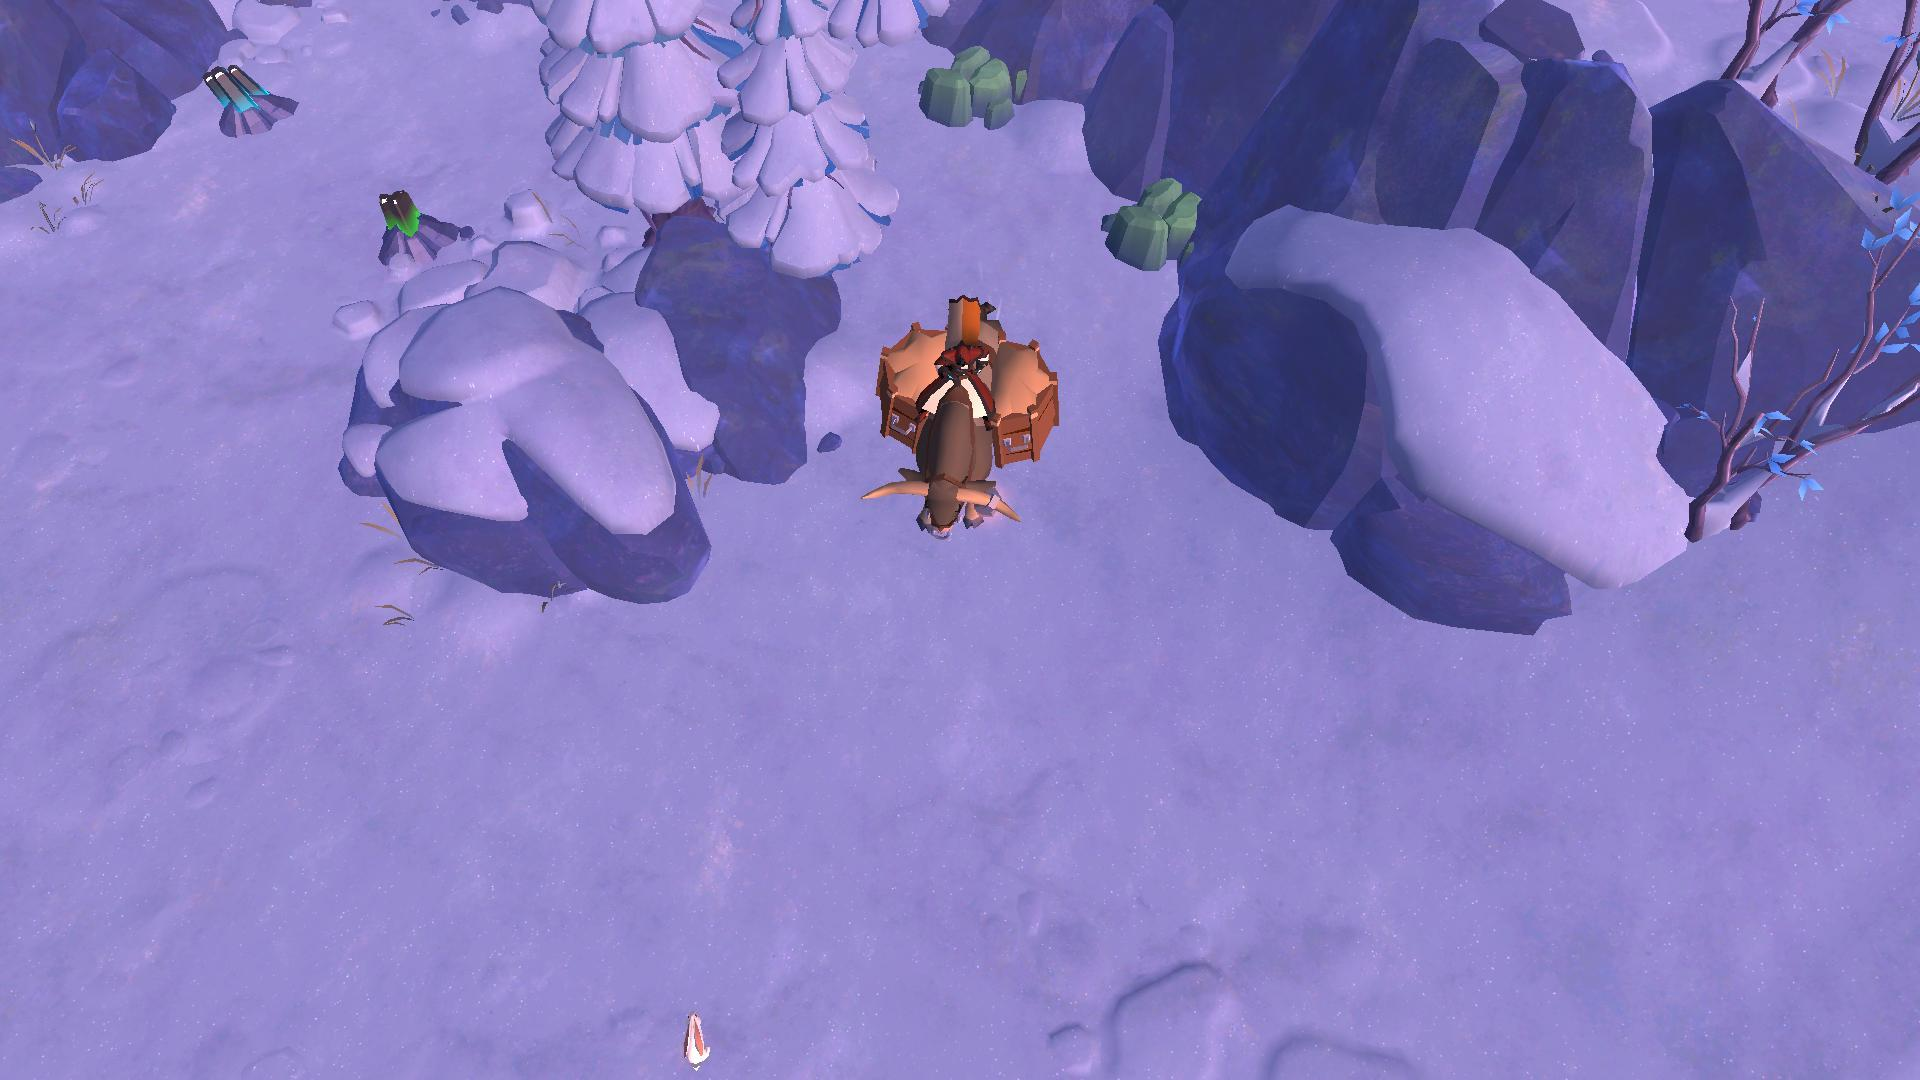ore_t3: (369, 185, 423, 241)
ore_t4: (200, 61, 268, 117)
rock_t3: (1091, 169, 1204, 278), (909, 38, 1034, 131)
